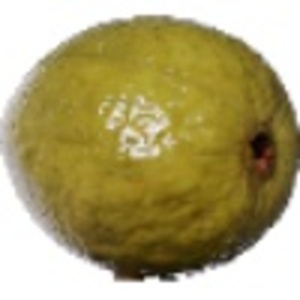goiaba: (10, 10, 292, 279)
